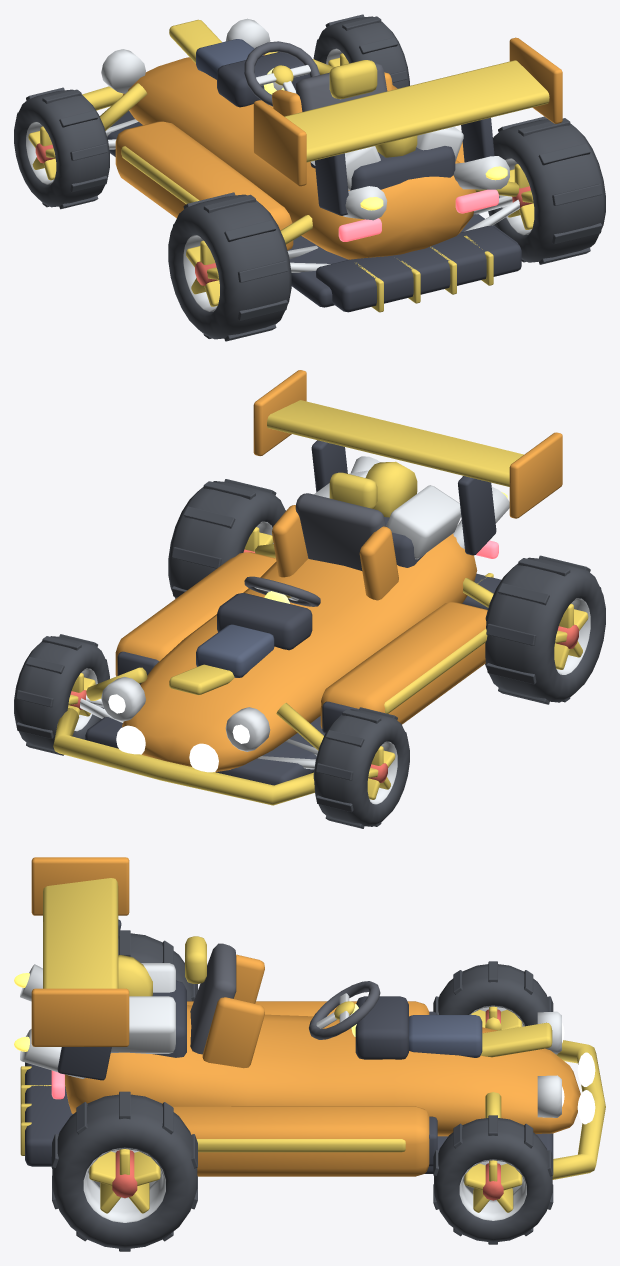
File: trilha_raposa.glb
The picture shows the model from 3 angles, top to bottom: view 1: azimuth 30°, elevation 25°; view 2: azimuth 150°, elevation 25°; view 3: azimuth 270°, elevation 25°; orthographic projection. The views are drawn at different scales.
Visible parts, largest first — view 1: trilha-raposa_ChassisMesh, WheelRL_Mesh, WheelRR_Mesh, WheelFL_Mesh, WheelFR_Mesh, trilha-raposa_SteeringWheelMesh, ExhaustR_Mesh, ExhaustL_Mesh; view 2: trilha-raposa_ChassisMesh, WheelRL_Mesh, WheelFL_Mesh, WheelRR_Mesh, WheelFR_Mesh, trilha-raposa_SteeringWheelMesh, ExhaustL_Mesh; view 3: trilha-raposa_ChassisMesh, WheelRR_Mesh, WheelFR_Mesh, WheelFL_Mesh, trilha-raposa_SteeringWheelMesh, WheelRL_Mesh, ExhaustR_Mesh, ExhaustL_Mesh.
Part boxes in pixels (x1,y1,x2,y2): trilha-raposa_ChassisMesh: (82,18,562,312); WheelRL_Mesh: (168,192,291,341); WheelRR_Mesh: (488,116,605,264); WheelFL_Mesh: (14,87,109,209); WheelFR_Mesh: (313,14,409,88); trilha-raposa_SteeringWheelMesh: (244,41,319,106); ExhaustR_Mesh: (453,156,509,189); ExhaustL_Mesh: (343,186,387,220); trilha-raposa_ChassisMesh: (53,370,562,805); WheelRL_Mesh: (485,555,605,704); WheelFL_Mesh: (313,707,409,828); WheelRR_Mesh: (168,479,286,598); WheelFR_Mesh: (14,634,109,755); trilha-raposa_SteeringWheelMesh: (244,576,320,606); ExhaustL_Mesh: (453,487,509,548); trilha-raposa_ChassisMesh: (20,857,605,1179); WheelRR_Mesh: (52,1091,197,1251); WheelFR_Mesh: (433,1115,553,1244); WheelFL_Mesh: (433,961,553,1029); trilha-raposa_SteeringWheelMesh: (309,981,380,1039); WheelRL_Mesh: (118,930,197,1001); ExhaustR_Mesh: (14,1029,85,1078); ExhaustL_Mesh: (14,964,42,1001).
Bounding box in the file's own units: 2.07 × 1.17 × 2.67.
